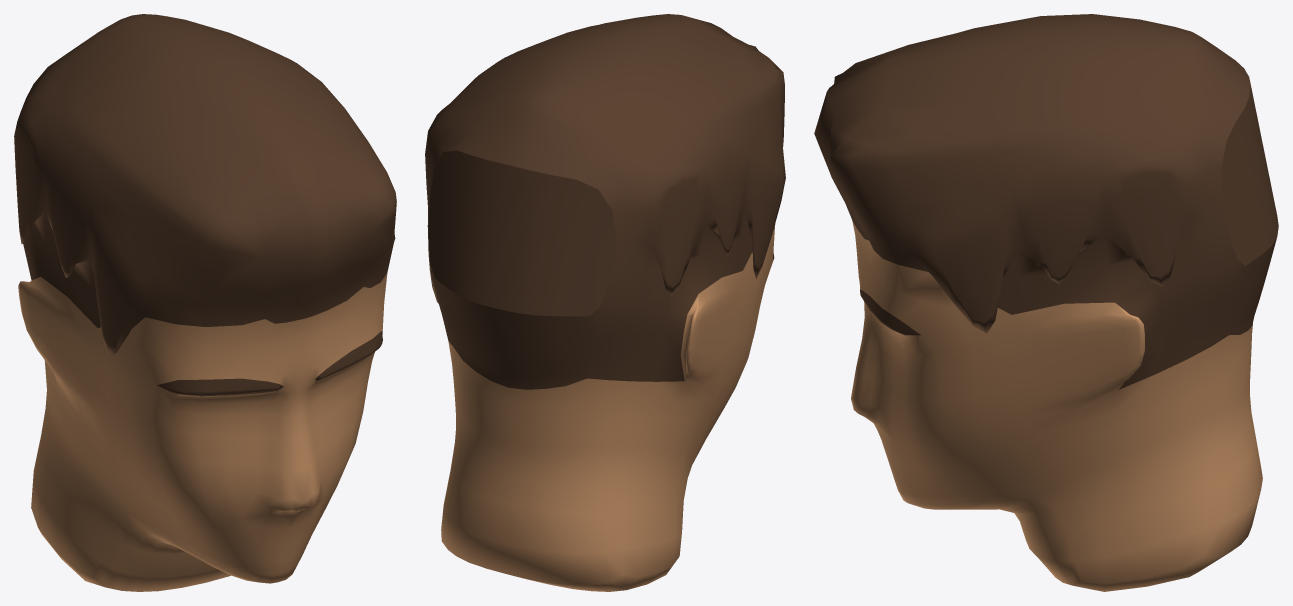
Rendered from head.fbx.
3 views of the same model, side by side, from view 1: azimuth 30°, elevation 25°; view 2: azimuth 150°, elevation 25°; view 3: azimuth 270°, elevation 25° (orthographic). The views are drawn at different scales.
Visible parts, largest first — view 1: CharacterModel.001; view 2: CharacterModel.001; view 3: CharacterModel.001.
Boxes of the visible parts, <box> form: CharacterModel.001: <box>14,14,396,591</box>; CharacterModel.001: <box>425,14,785,591</box>; CharacterModel.001: <box>814,14,1278,591</box>.
Size of the model in its own units: 23.74 by 42.72 by 34.29.
